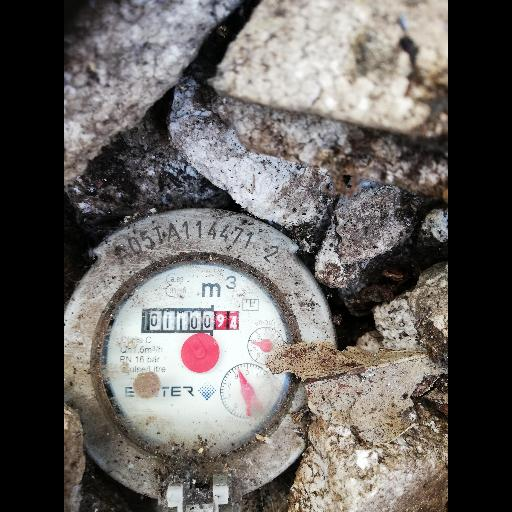0: (149, 310, 162, 330), (190, 310, 201, 330), (202, 311, 213, 330)
1: (176, 310, 189, 332), (163, 311, 175, 331)
4: (227, 311, 239, 331)
9: (215, 311, 228, 330)
border_water_meter_number: (141, 308, 243, 335)
